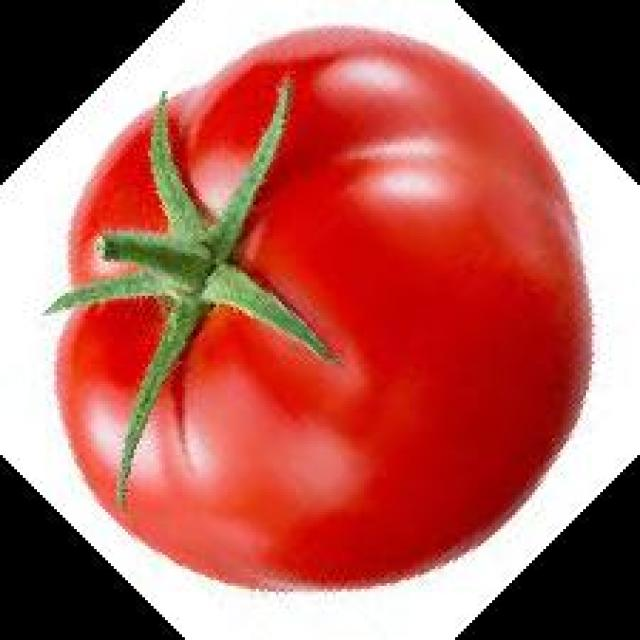Tomato: (52, 30, 596, 602)
